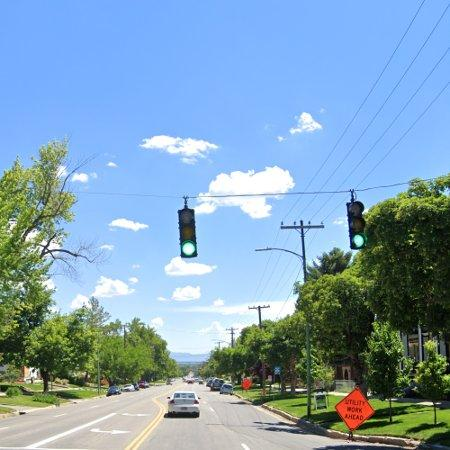traffic lights: (178, 208, 198, 257)
